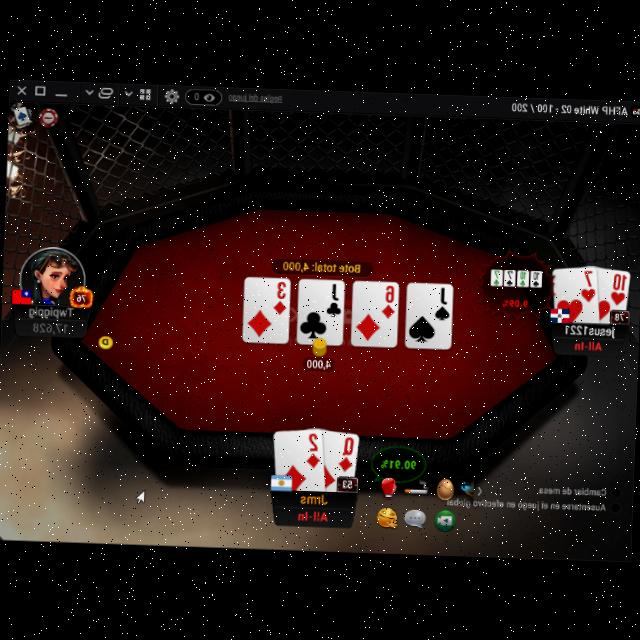2d: (303, 428, 322, 468)
3d: (271, 276, 289, 314)
6d: (379, 280, 396, 316)
7h: (579, 266, 598, 302)
Jc: (324, 279, 344, 316)
Js: (432, 282, 451, 320)
Qd: (336, 432, 356, 471)
Th: (609, 268, 628, 303)
all_in_symbol: (294, 504, 330, 522), (573, 336, 602, 350)
bet_text: (306, 354, 332, 368)
dealer: (96, 330, 114, 349)
pot_text: (280, 256, 362, 272)
stack_text: (31, 318, 68, 333)
